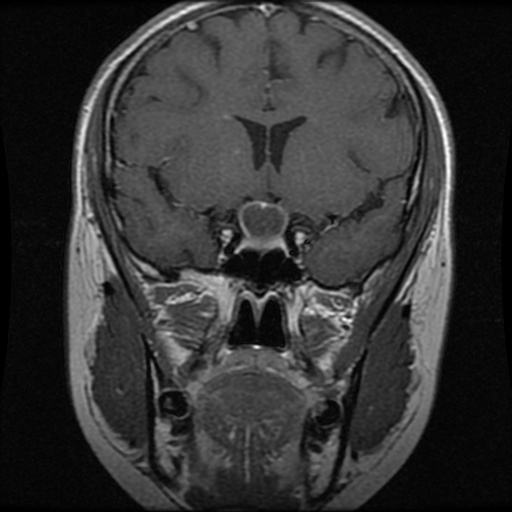pituitary: (239, 201, 288, 247)
